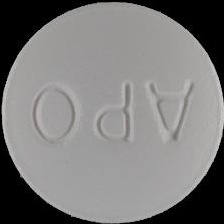58118-0053: (0, 0, 224, 224)
